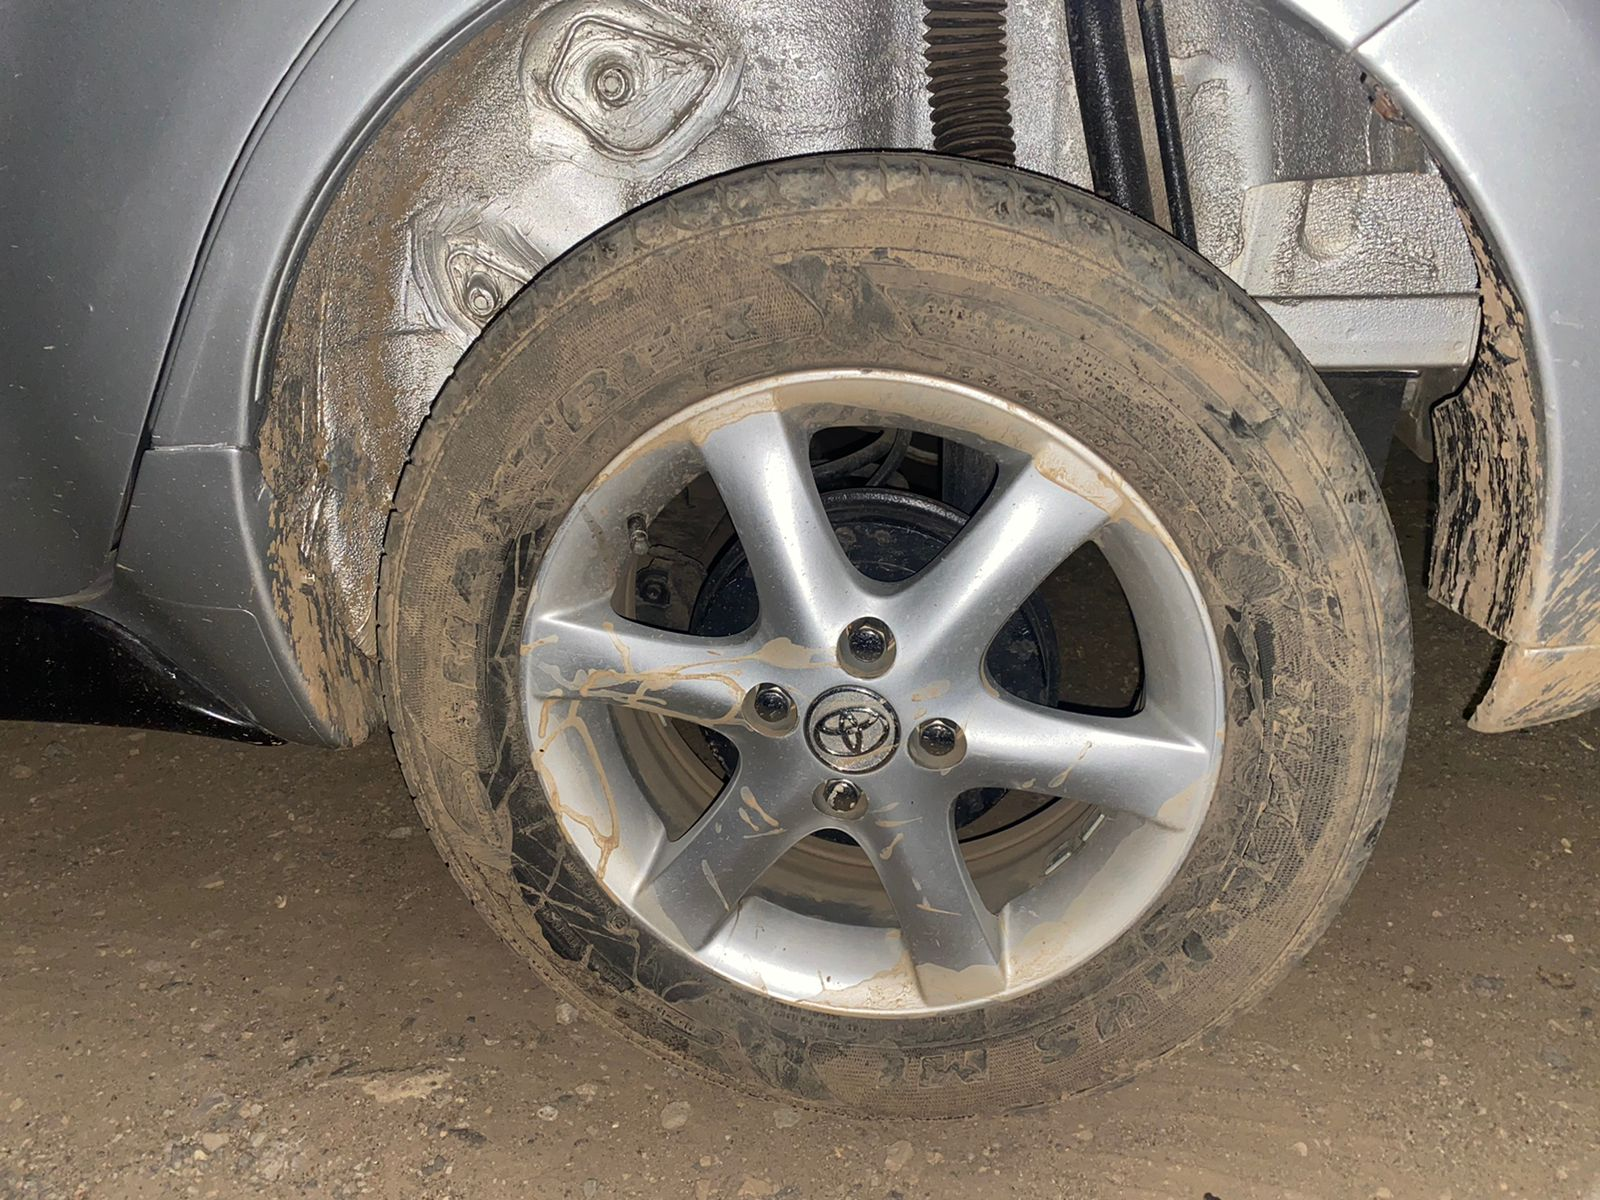wheel: (375, 145, 1417, 1143)
